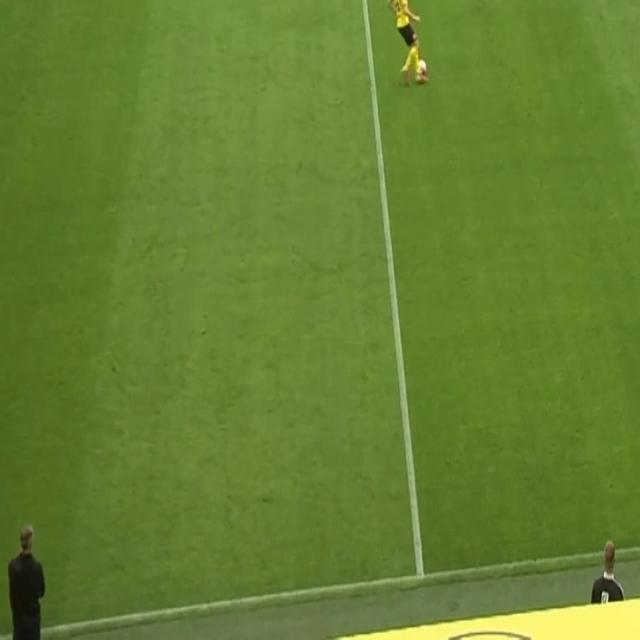ball: (413, 57, 428, 85)
